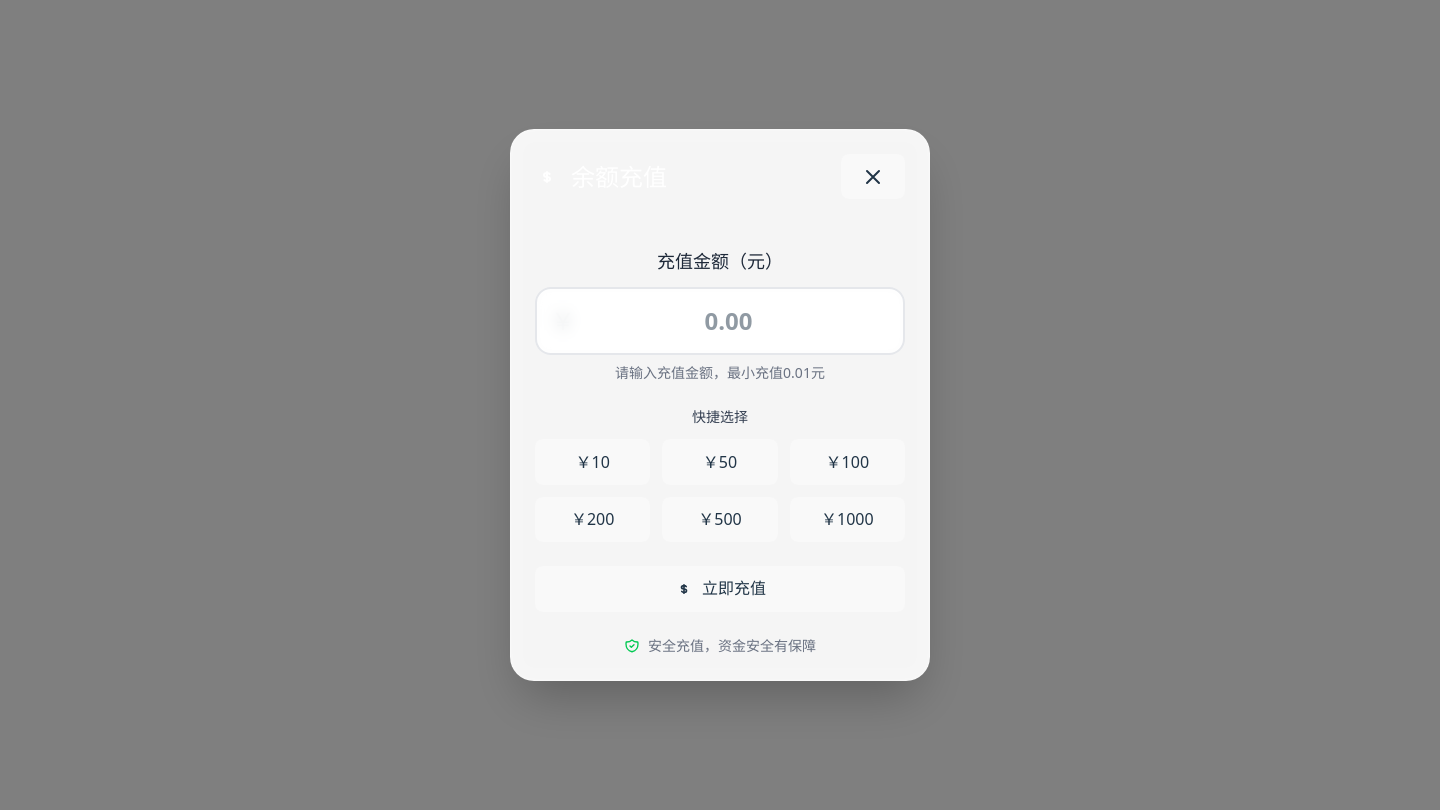
it: RechargeModal Component › 交互功能 › 应该支持快捷金额选择
Click the button "￥100". click: (847, 462)
box: [790,439,905,485]
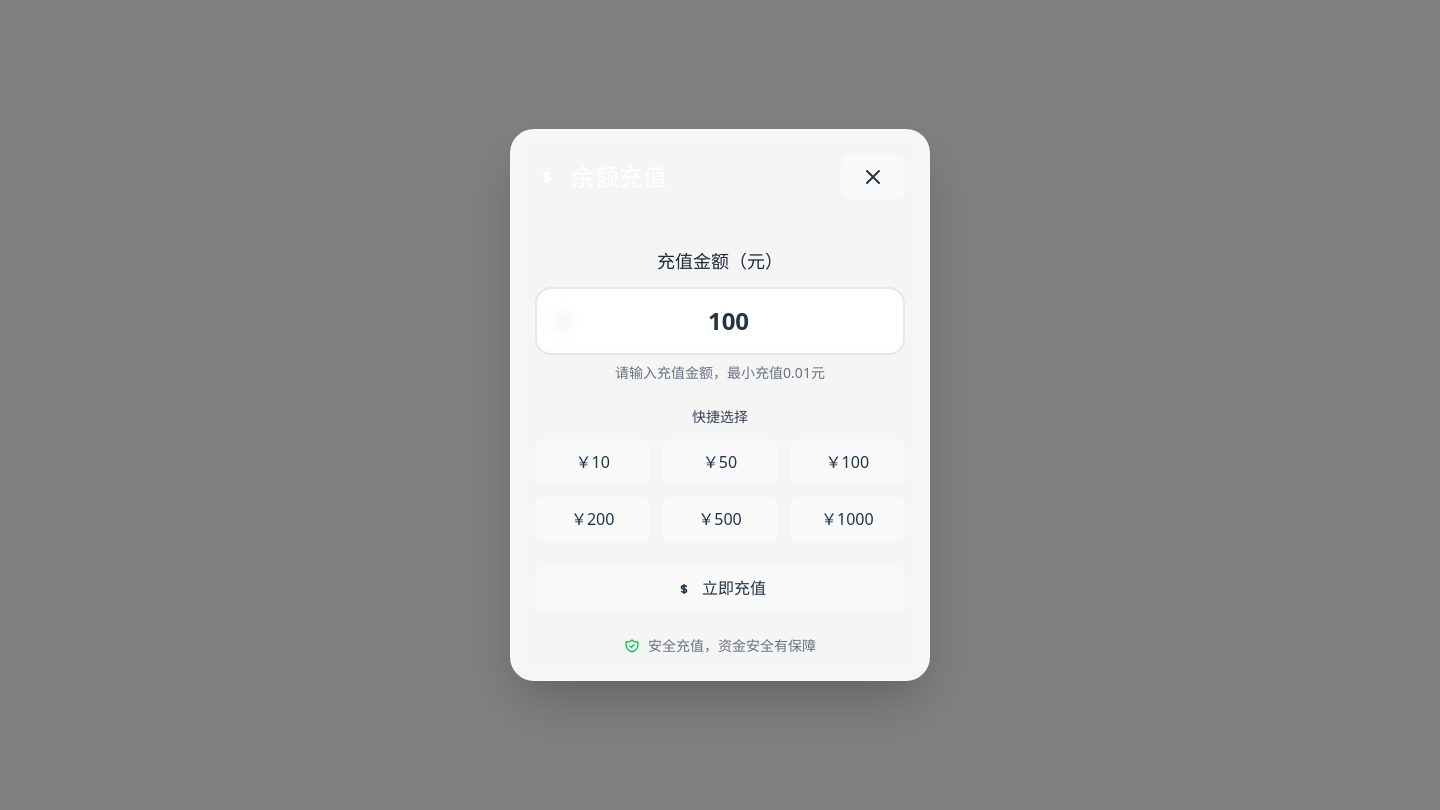
Now the number field with placeholder "0.00" holds "100", box [535,287,905,355]
